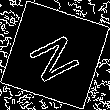N_NE: (23, 26, 87, 84)
